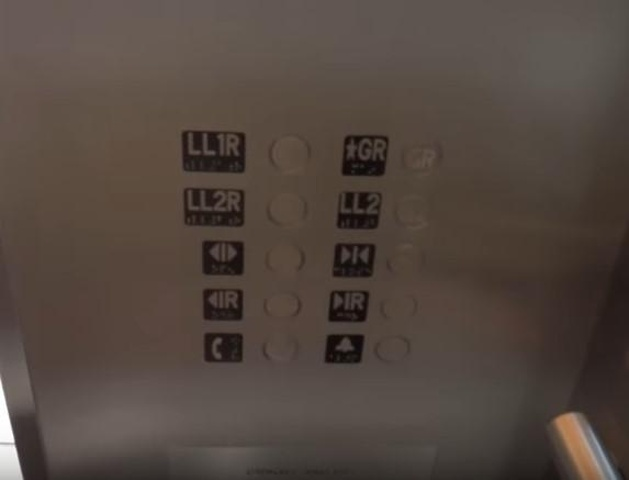GR: (399, 134, 445, 178)
IR: (325, 286, 372, 325), (199, 285, 246, 322)
LL2: (328, 186, 385, 233)
alarm: (322, 333, 367, 366)
call: (201, 330, 247, 365)
close: (330, 239, 377, 280)
empty: (266, 188, 313, 231), (267, 133, 313, 174), (383, 240, 427, 281), (262, 238, 307, 276), (392, 190, 432, 231), (378, 289, 421, 325), (260, 288, 304, 323), (259, 332, 304, 365), (373, 334, 414, 367)
open: (198, 239, 247, 277)
sGR: (337, 130, 389, 180)
text_LL1R: (179, 127, 249, 173)
text_LL2R: (180, 184, 249, 228)
